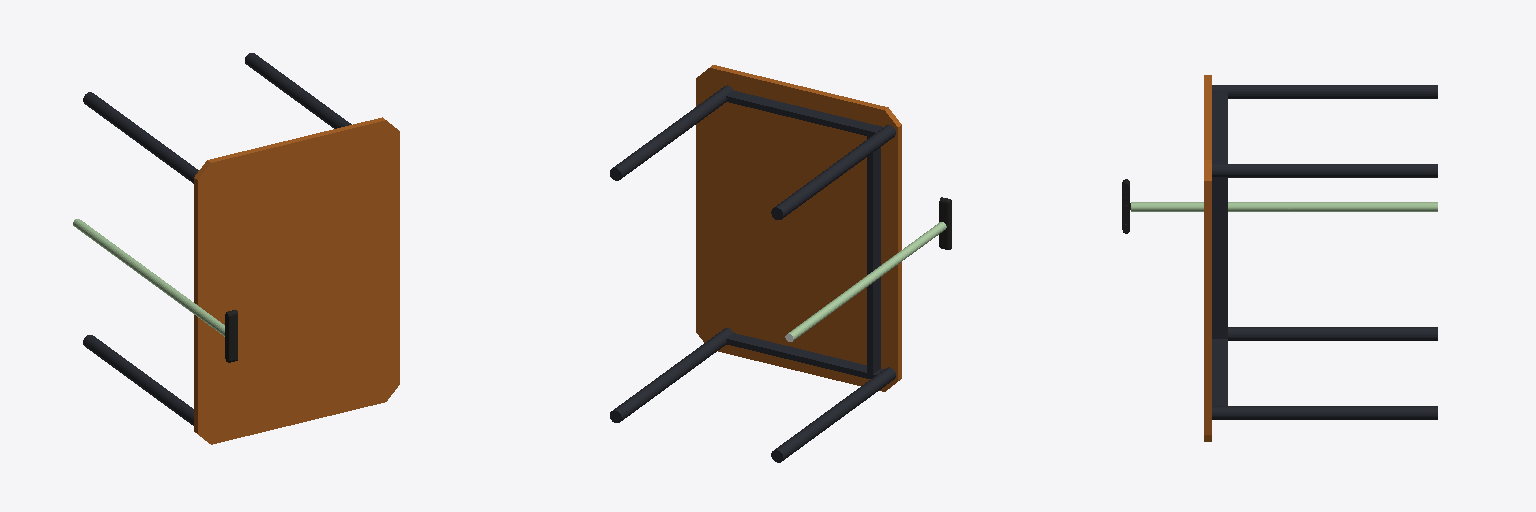
Rendered from desk.obj.
3 renders of one model, left to right at view 1: azimuth 30°, elevation 25°; view 2: azimuth 150°, elevation 25°; view 3: azimuth 270°, elevation 25°, orthographic.
Visible parts, largest first — view 1: Mesh3 audience_desk1 audience_workspace1 Model, Mesh2 audience_sensor_rgbd1 audience_workspace1 Model, Mesh1 audience_sensor_rgbd1 audience_workspace1 Model; view 2: Mesh3 audience_desk1 audience_workspace1 Model, Mesh2 audience_sensor_rgbd1 audience_workspace1 Model, Mesh1 audience_sensor_rgbd1 audience_workspace1 Model; view 3: Mesh3 audience_desk1 audience_workspace1 Model, Mesh2 audience_sensor_rgbd1 audience_workspace1 Model.
Part boxes in pixels (x1,y1,x2,y2): Mesh3 audience_desk1 audience_workspace1 Model: (83, 53, 399, 444); Mesh2 audience_sensor_rgbd1 audience_workspace1 Model: (73, 219, 224, 336); Mesh1 audience_sensor_rgbd1 audience_workspace1 Model: (225, 310, 237, 362); Mesh3 audience_desk1 audience_workspace1 Model: (610, 65, 901, 462); Mesh2 audience_sensor_rgbd1 audience_workspace1 Model: (785, 222, 946, 341); Mesh1 audience_sensor_rgbd1 audience_workspace1 Model: (939, 197, 951, 249); Mesh3 audience_desk1 audience_workspace1 Model: (1204, 75, 1437, 441); Mesh2 audience_sensor_rgbd1 audience_workspace1 Model: (1131, 202, 1437, 211).
Bounding box in the file's own units: 0.786 × 1 × 1.01.